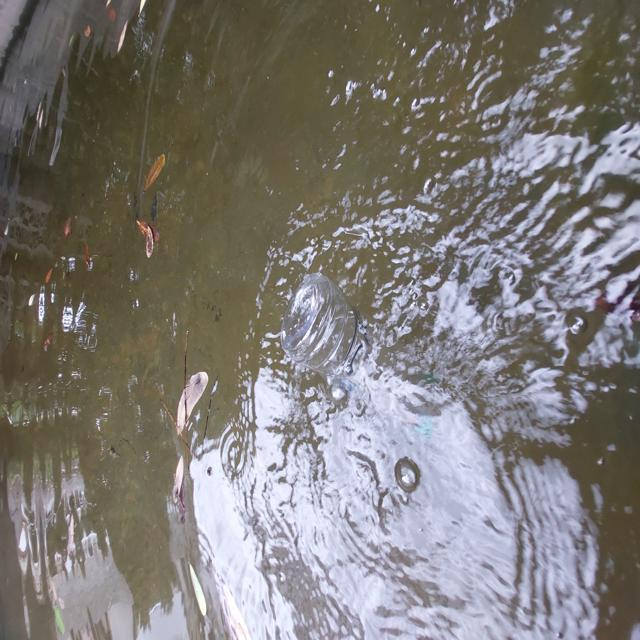leaf: (126, 201, 168, 262), (136, 144, 176, 190)
waterbottle: (263, 269, 411, 418)
